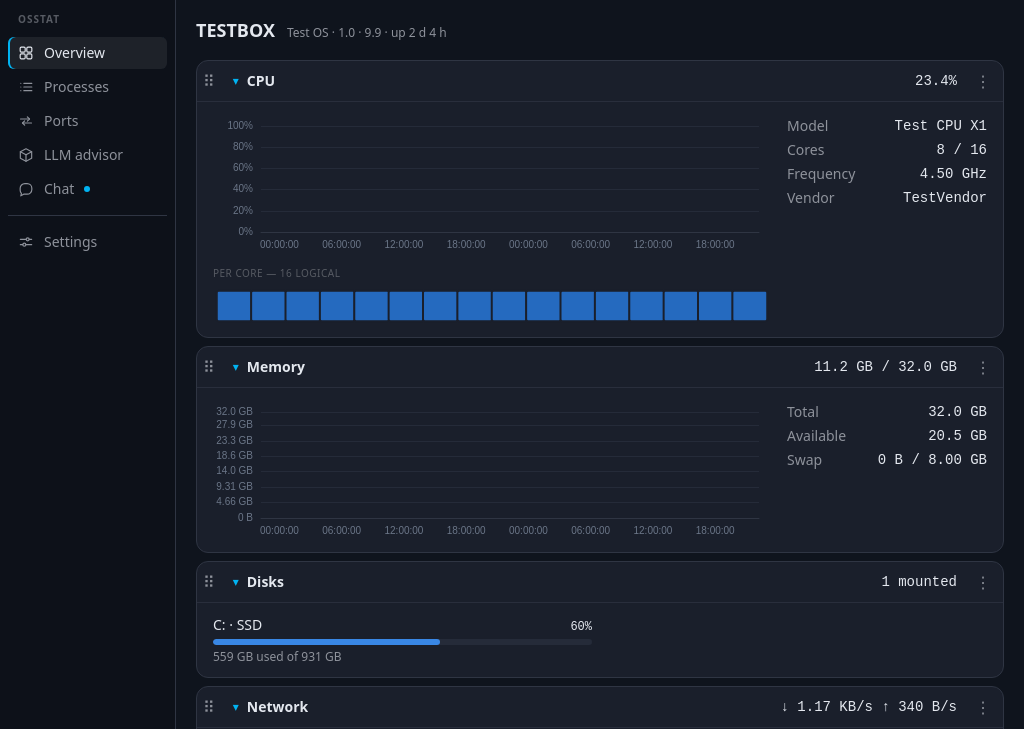
App › navigates to the process tree and rolls a subtree up onto its collapsed parent
Check: the heading "TESTBOX" is shown, box [196,16,275,44]
Click the button titled "Processes". click: coordinates (88, 87)
box: [8,71,167,103]
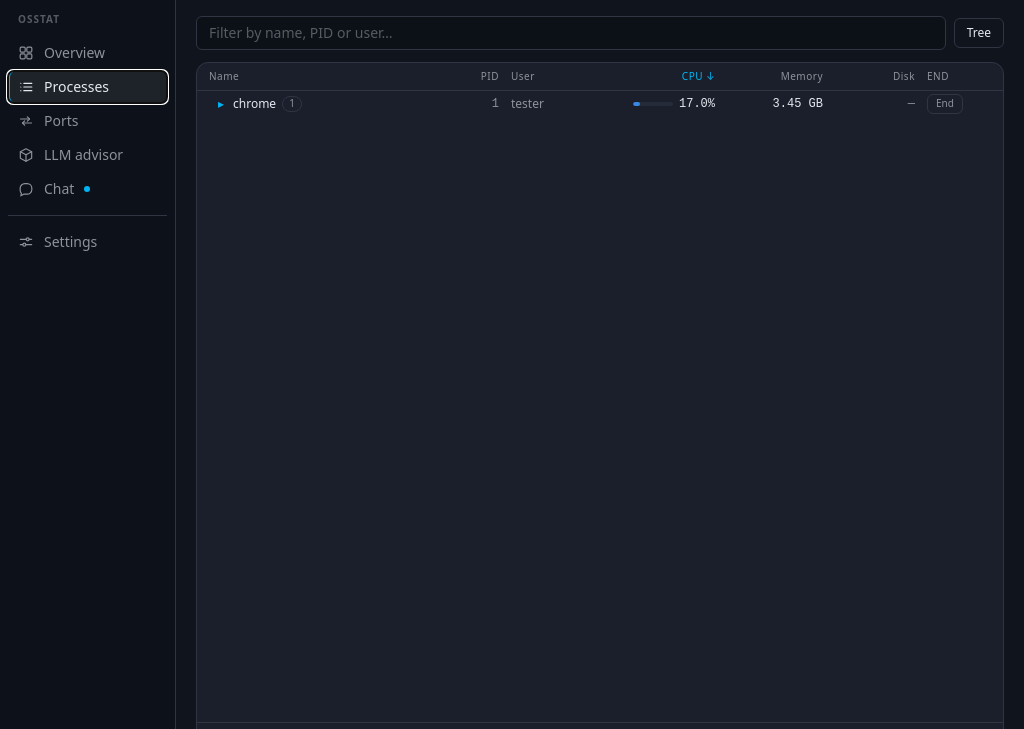
Check: the text "chrome" is shown, box [233,96,276,112]
Check: the text "17.0%" is shown, box [679,96,715,112]
